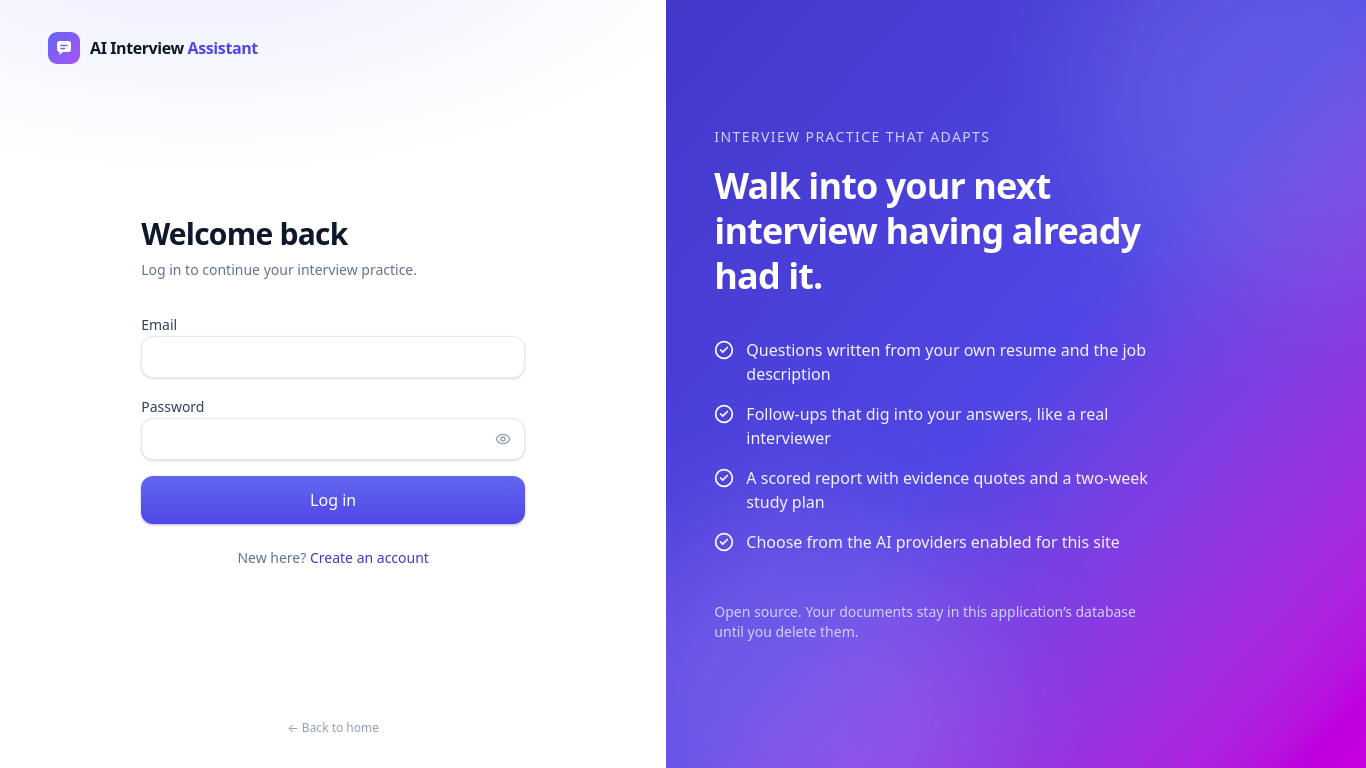
login › ignores a next parameter that points off the site
This screenshot has width=1366, height=768.
Type "ada@example.com" into the field labelled "Email" at (333, 357), box [141, 336, 525, 378]
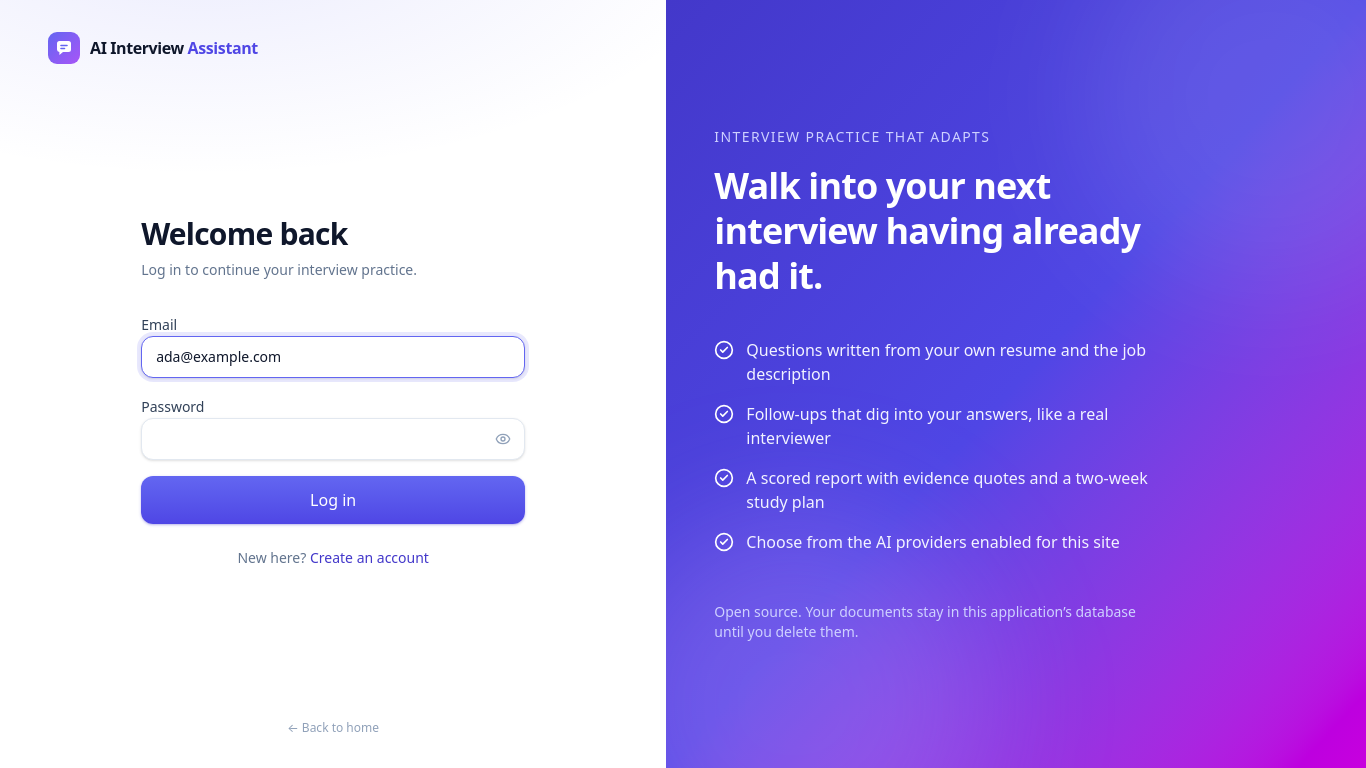
Type "a long password" into the password field labelled "Password" at (333, 439), box [141, 418, 525, 460]
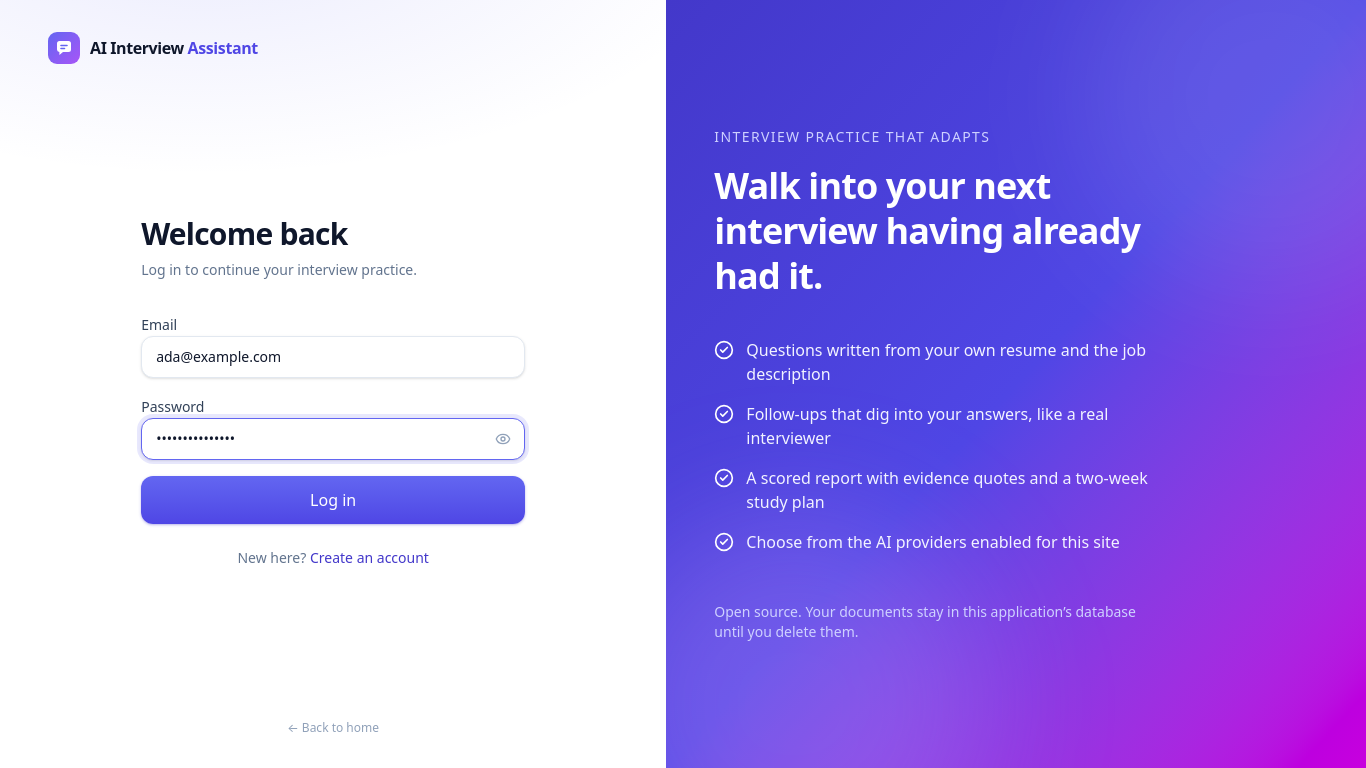
Click the button "Log in" at (333, 500), box [141, 476, 525, 524]
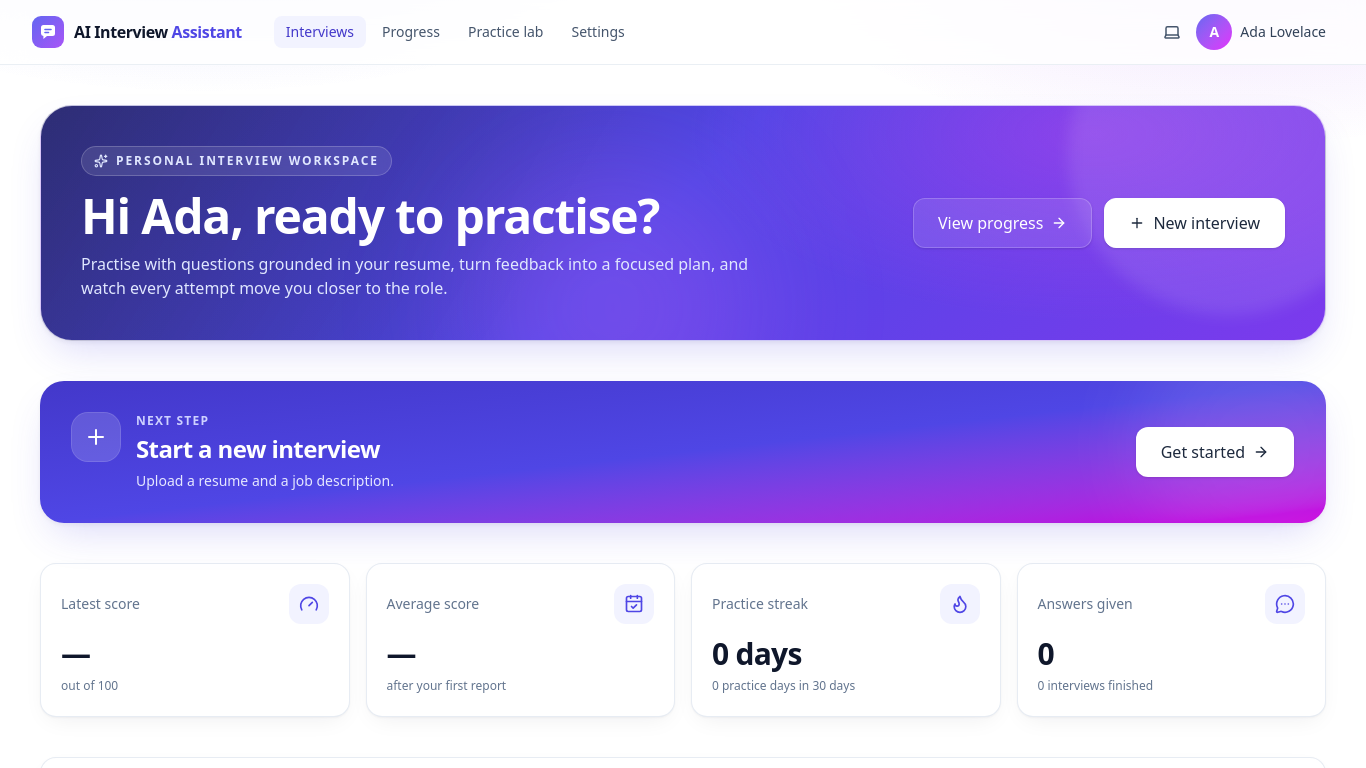
Expected: the heading "Hi Ada, ready to practise?" is shown, [81, 192, 753, 240]
